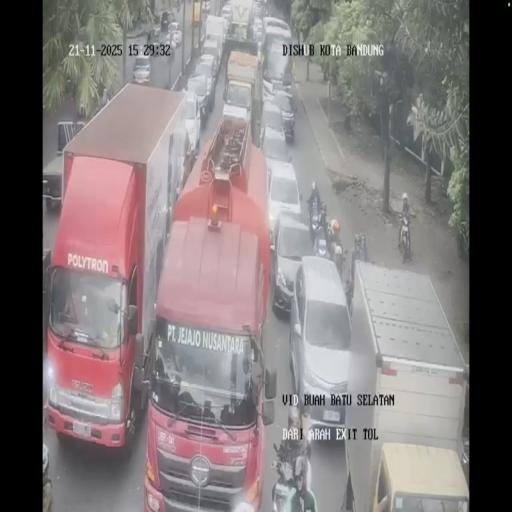3: (45, 82, 192, 452), (336, 262, 468, 510), (261, 17, 293, 87)
car: (271, 209, 315, 317), (221, 78, 254, 136), (269, 88, 296, 142), (185, 72, 210, 127), (200, 38, 221, 79), (132, 55, 152, 85), (165, 20, 181, 48), (251, 19, 264, 47), (220, 1, 232, 27), (252, 0, 262, 19), (151, 24, 161, 42), (202, 0, 210, 14)
truck: (397, 211, 413, 263), (310, 208, 326, 250), (331, 240, 345, 282)
